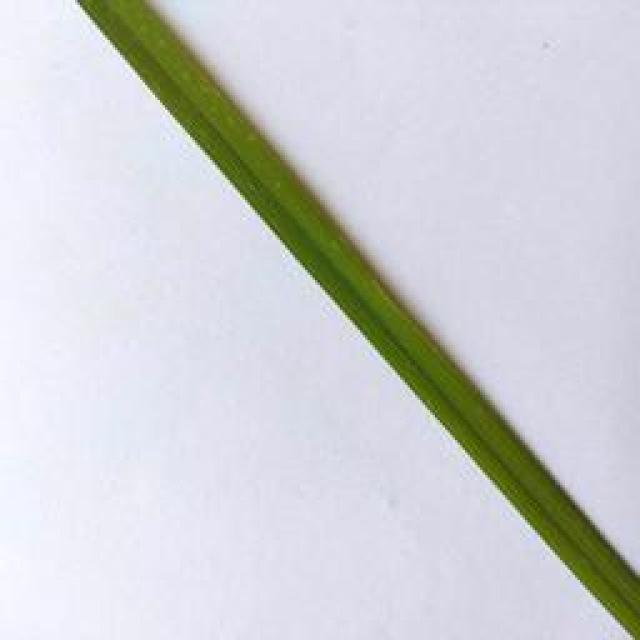Healthy: (72, 0, 640, 640)
